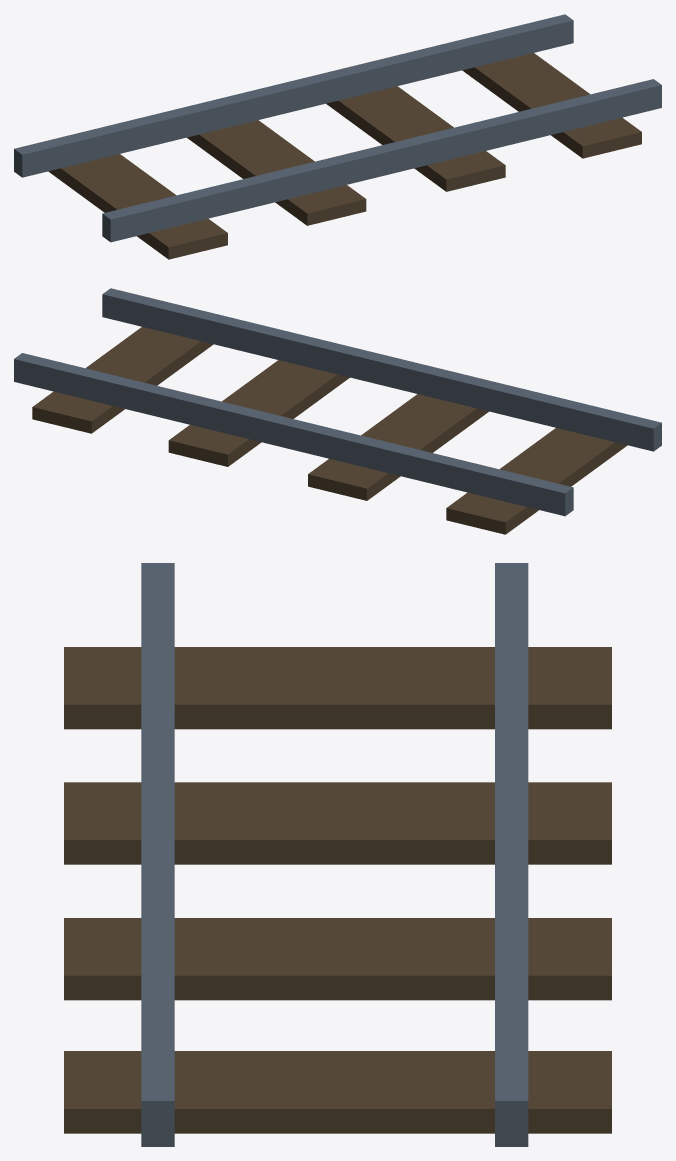
File: Rail-A03.fbx
3 renders of one model, top to bottom at view 1: azimuth 30°, elevation 25°; view 2: azimuth 150°, elevation 25°; view 3: azimuth 270°, elevation 25°, orthographic. The views are drawn at different scales.
Visible parts, largest first — view 1: Rail-A03; view 2: Rail-A03; view 3: Rail-A03.
Boxes of the visible parts, x1=… form: Rail-A03: x1=14, y1=14, x2=661, y2=259; Rail-A03: x1=14, y1=288, x2=661, y2=534; Rail-A03: x1=64, y1=563, x2=611, y2=1146.
Bounding box in the file's own units: 457 × 28.05 × 197.
